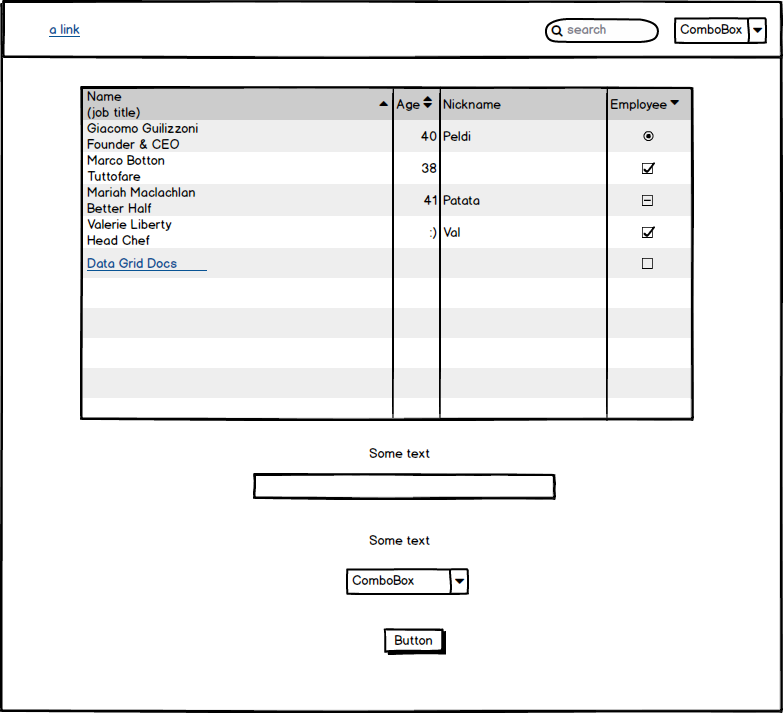button: (382, 623, 451, 658)
input: (249, 469, 562, 504)
label: (362, 529, 437, 551), (364, 442, 433, 462)
navlink: (42, 18, 98, 39)
search: (543, 12, 662, 44)
select_box: (340, 561, 477, 598), (671, 10, 771, 48)
table: (73, 79, 698, 428)
